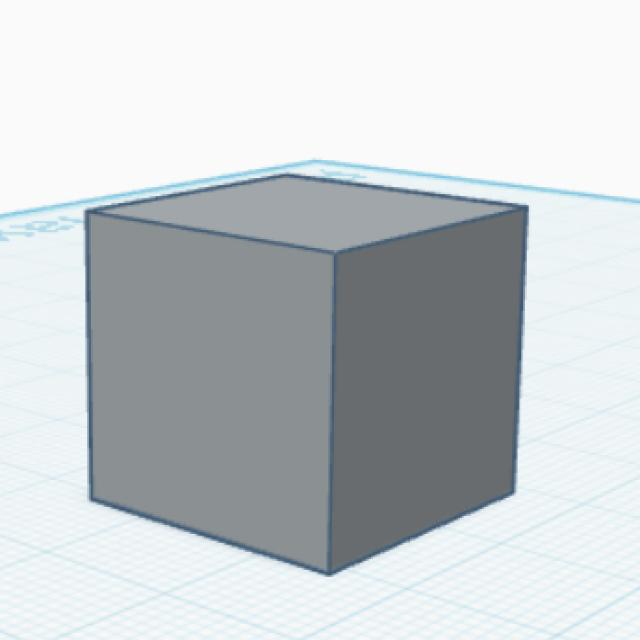cube: (80, 168, 533, 582)
